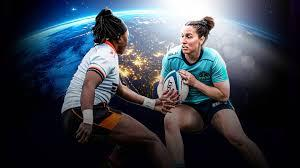ballon_rugby: (162, 70, 189, 106)
